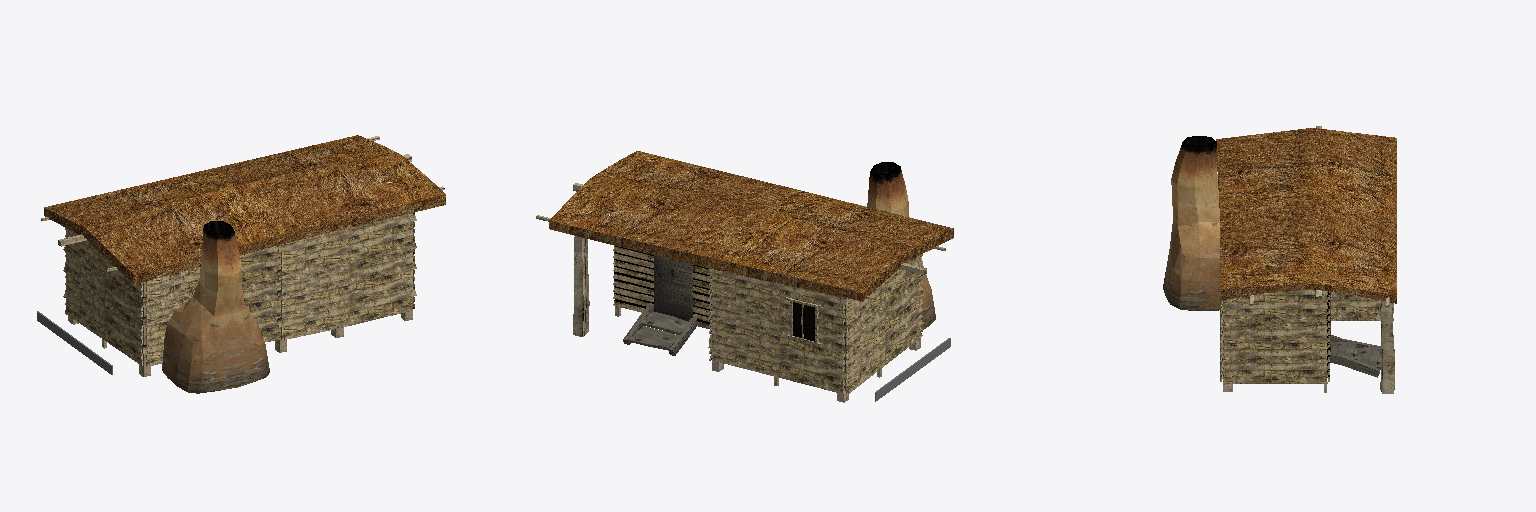
3 views of the same model, side by side, from view 1: azimuth 30°, elevation 25°; view 2: azimuth 150°, elevation 25°; view 3: azimuth 270°, elevation 25° (orthographic).
Parts seen in each view (by area): view 1: polySurface24, pCube1; view 2: polySurface24, pCube1, pasted__pasted__pasted__group pasted__pasted__group4 pasted__gro; view 3: polySurface24.
Part boxes in pixels (x1,y1,x2,y2): polySurface24: (41, 135, 445, 393); pCube1: (37, 311, 112, 374); polySurface24: (536, 151, 953, 402); pCube1: (875, 338, 950, 401); pasted__pasted__pasted__group pasted__pasted__group4 pasted__gro: (614, 246, 709, 316); polySurface24: (1163, 126, 1396, 393).
Bounding box in the file's own units: 815 × 341 × 467.
16 materials, 1 textured.